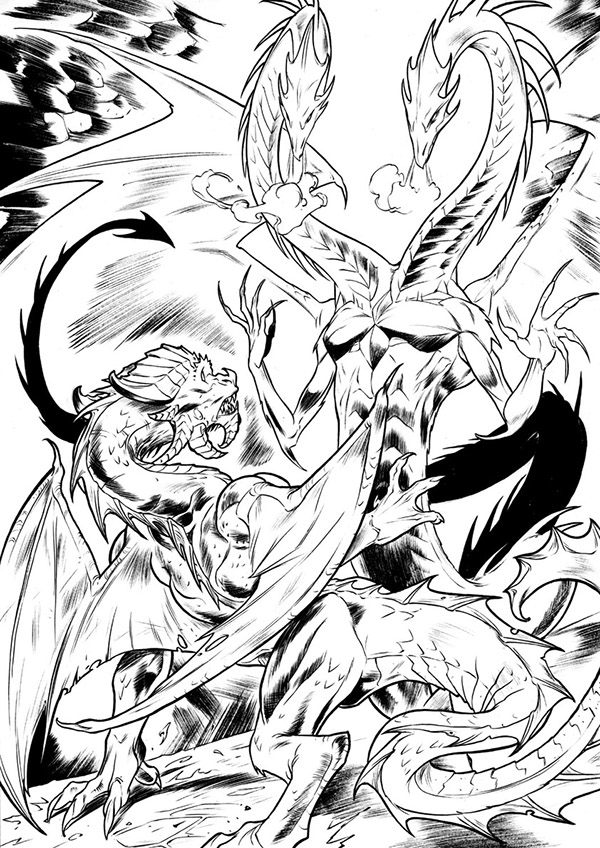dog: (206, 474, 325, 607)
